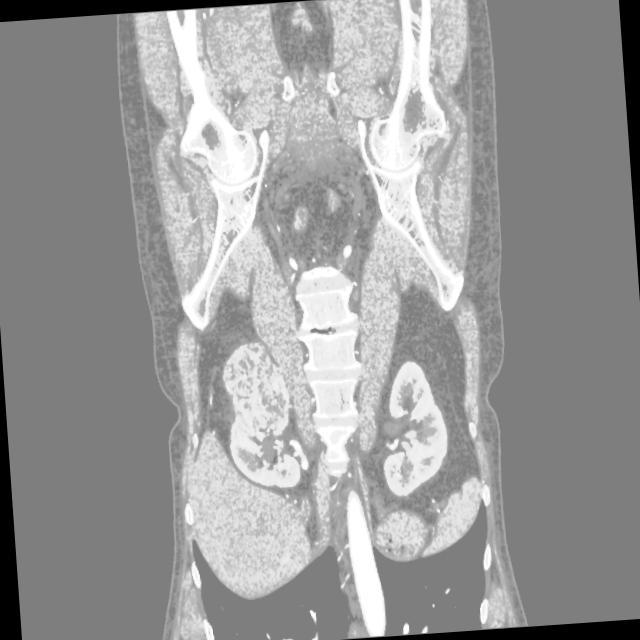TUMOR: (120, 259, 507, 565)
